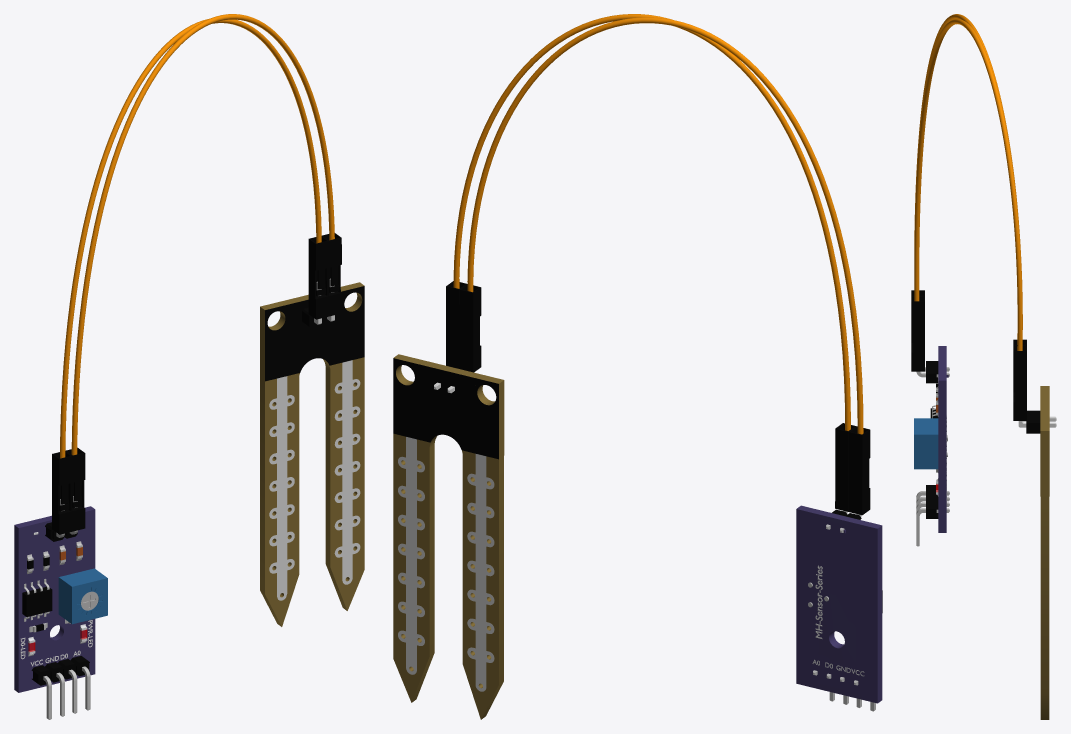
Rendered from soil_moisture_sensor.glb.
The picture shows the model from 3 angles, left to right: view 1: azimuth 30°, elevation 25°; view 2: azimuth 150°, elevation 25°; view 3: azimuth 270°, elevation 25°; orthographic projection. The views are drawn at different scales.
Parts seen in each view (by area): view 1: laranja_010-material, laranja_001-material, base_tras-material, Metal_022-material, PlasticoPreto_028-material, PlasticoPreto_003-material, plastico_preto_017-material, azul_controle-material, metal_007-material; view 2: laranja_010-material, base_tras-material, laranja_001-material, Metal_022-material, PlasticoPreto_028-material, PlasticoPreto_003-material; view 3: laranja_001-material, laranja_010-material, PlasticoPreto_003-material, base_tras-material, azul_controle-material, plastico_preto_017-material, metal_007-material, PlasticoPreto_023-material.
Boxes of the visible parts, x1,y1,x2,y2 form: laranja_010-material: (260,282,364,626); laranja_001-material: (60,14,334,458); base_tras-material: (14,506,95,692); Metal_022-material: (269,278,360,600); PlasticoPreto_028-material: (265,286,364,381); PlasticoPreto_003-material: (52,233,341,534); plastico_preto_017-material: (22,522,89,685); azul_controle-material: (58,568,107,624); metal_007-material: (24,496,90,719); laranja_010-material: (393,354,504,719); base_tras-material: (796,505,882,703); laranja_001-material: (453,14,863,434); Metal_022-material: (398,382,494,691); PlasticoPreto_028-material: (393,358,498,459); PlasticoPreto_003-material: (446,281,870,515); laranja_001-material: (914,14,1022,350); laranja_010-material: (1040,386,1049,719); PlasticoPreto_003-material: (911,290,1026,420); base_tras-material: (938,346,948,532); azul_controle-material: (914,418,938,469); plastico_preto_017-material: (926,361,938,518); metal_007-material: (916,367,949,546); PlasticoPreto_023-material: (1026,410,1040,433).
Bounding box in the file's own units: 0.0784 × 0.1236 × 0.0266.
